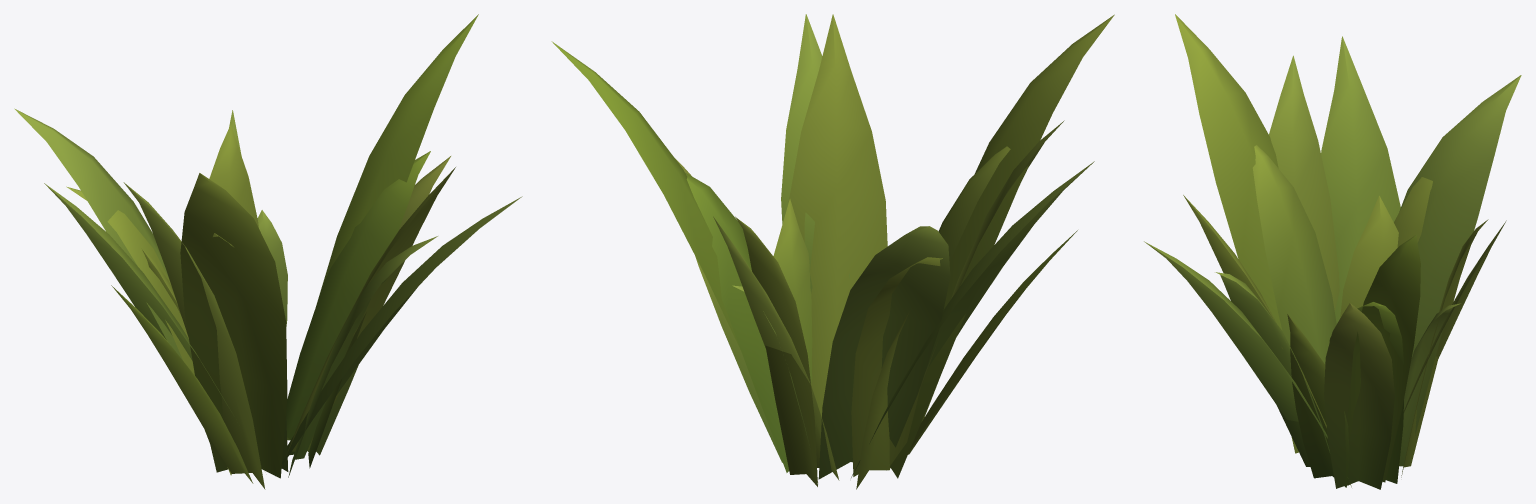
Rendered from prop_grass_tuft_v01.glb.
The picture shows the model from 3 angles, left to right: view 1: azimuth 30°, elevation 25°; view 2: azimuth 150°, elevation 25°; view 3: azimuth 270°, elevation 25°; orthographic projection. The views are drawn at different scales.
Visible parts, largest first — view 1: Plant; view 2: Plant; view 3: Plant.
Part boxes in pixels (bbox=[...]): Plant: bbox=[14, 14, 522, 489]; Plant: bbox=[551, 14, 1114, 489]; Plant: bbox=[1144, 14, 1521, 489].
Bounding box in the file's own units: 0.6628 × 0.5287 × 0.4762.
